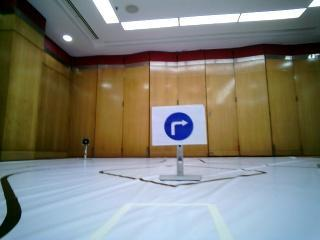right: (152, 106, 202, 143)
